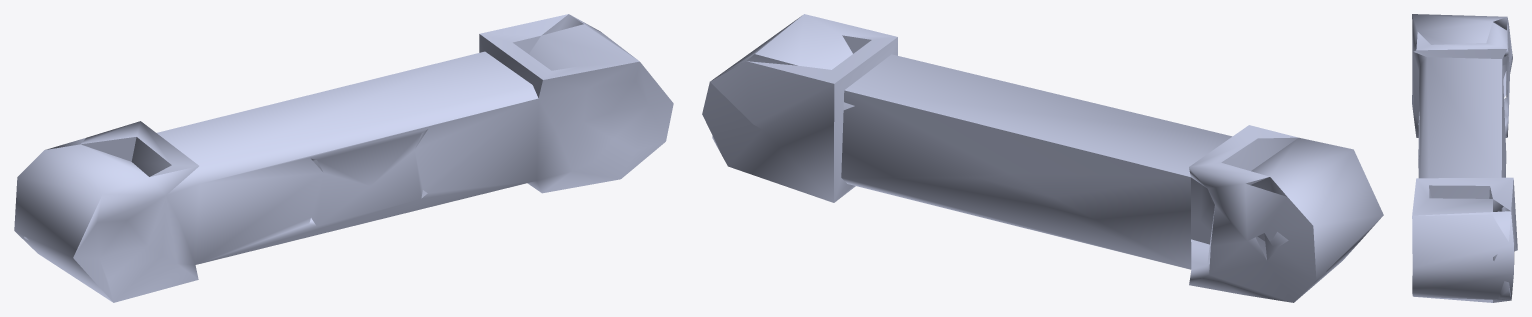
3 renders of one model, left to right at view 1: azimuth 30°, elevation 25°; view 2: azimuth 150°, elevation 25°; view 3: azimuth 270°, elevation 25°, orthographic. The views are drawn at different scales.
Visible parts, largest first — view 1: link2_stl; view 2: link2_stl; view 3: link2_stl.
Part boxes in pixels (x1,y1,x2,y2): link2_stl: [14, 14, 673, 302]; link2_stl: [702, 14, 1383, 302]; link2_stl: [1412, 14, 1517, 302].
Size of the model in its own units: 0.324 by 0.0638 by 0.06.
